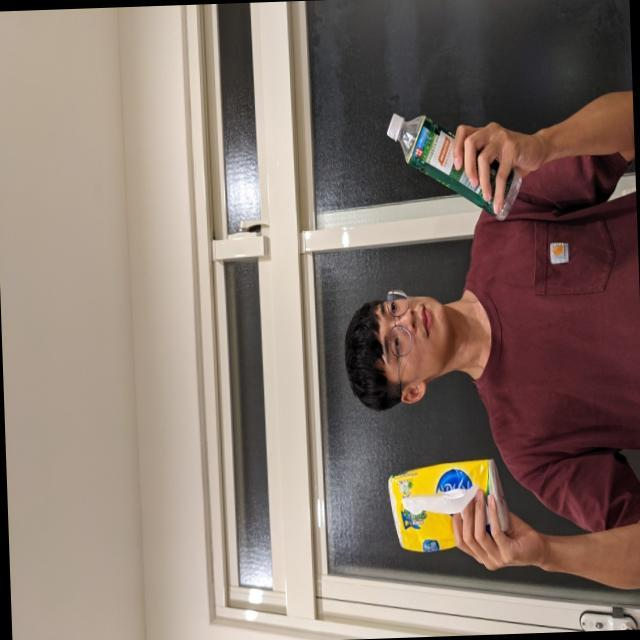good: (382, 110, 516, 214)
